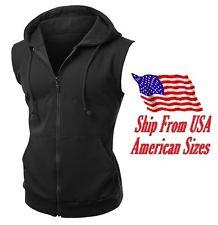C_vest: (9, 3, 131, 220)
